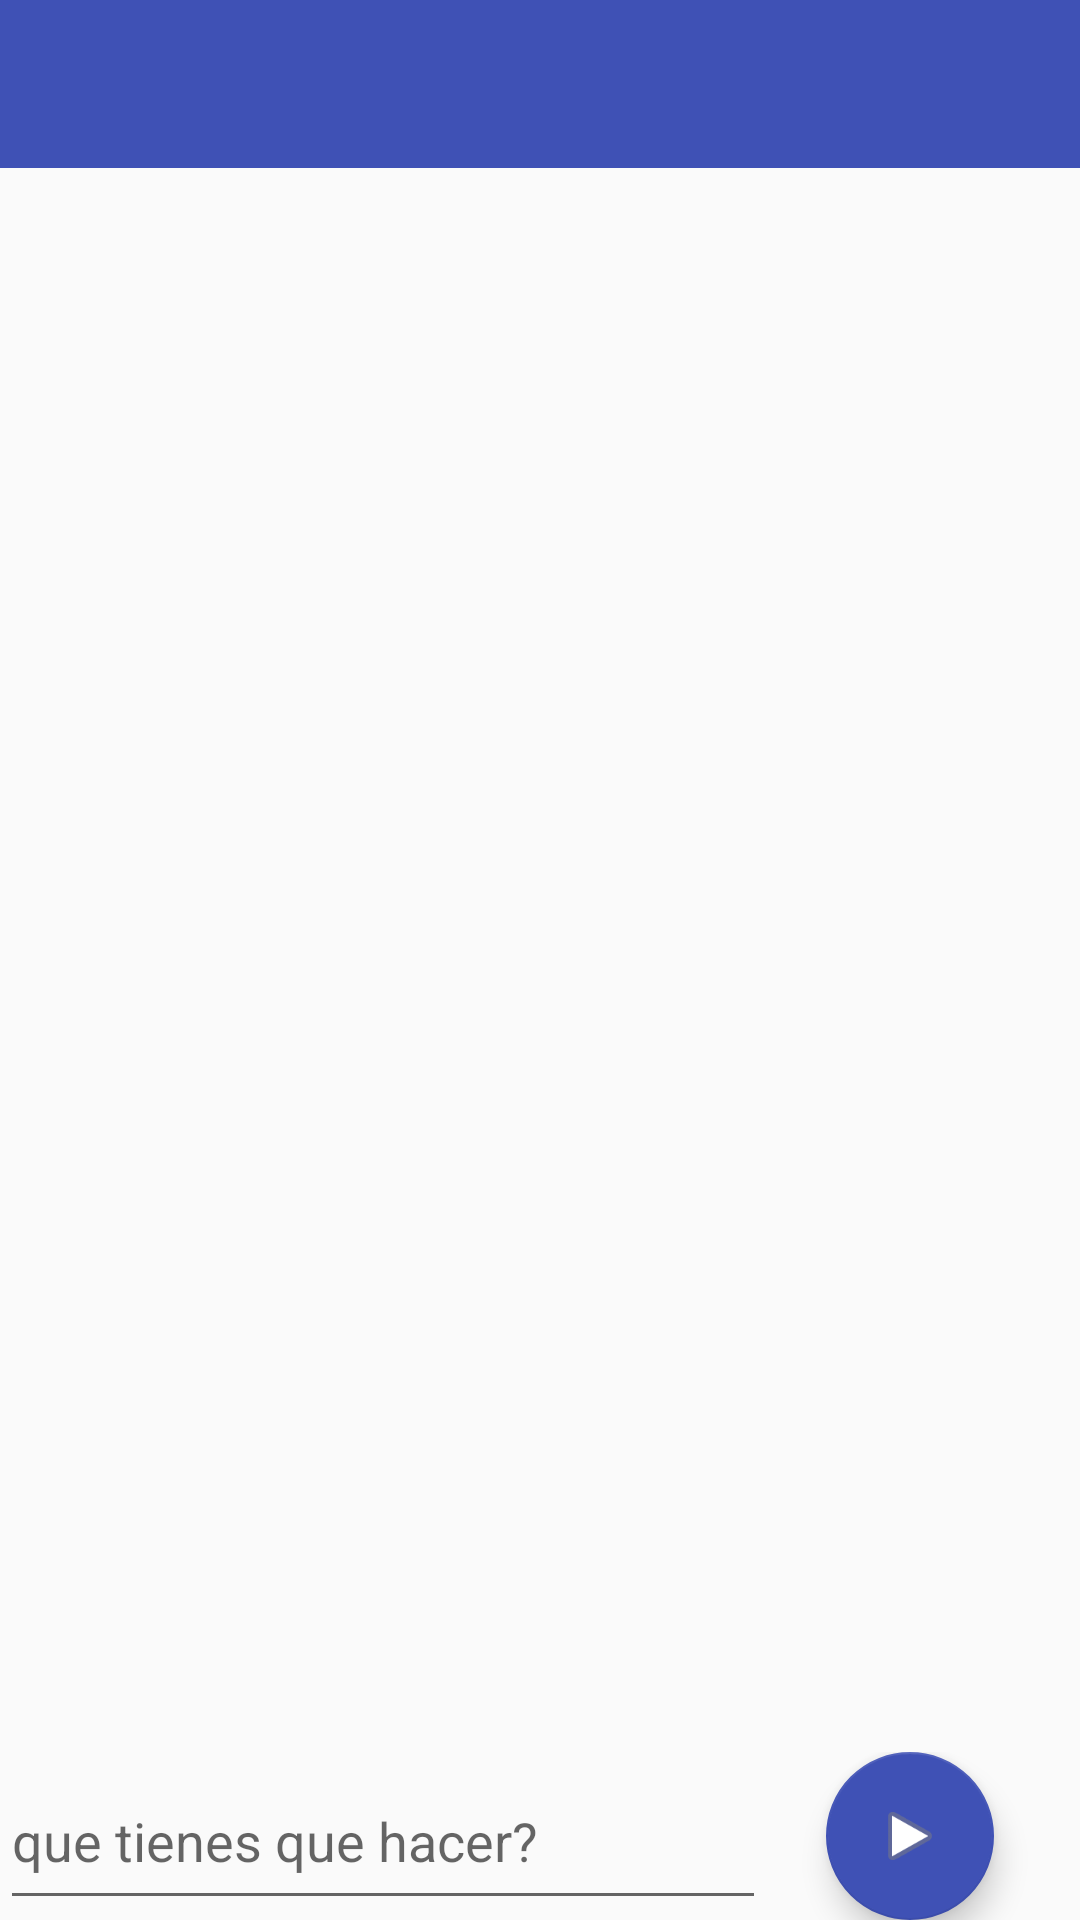

Where to tap for icons on this 1080 x 1920 app screen, as point (x, y):
play: point (910, 1836)
